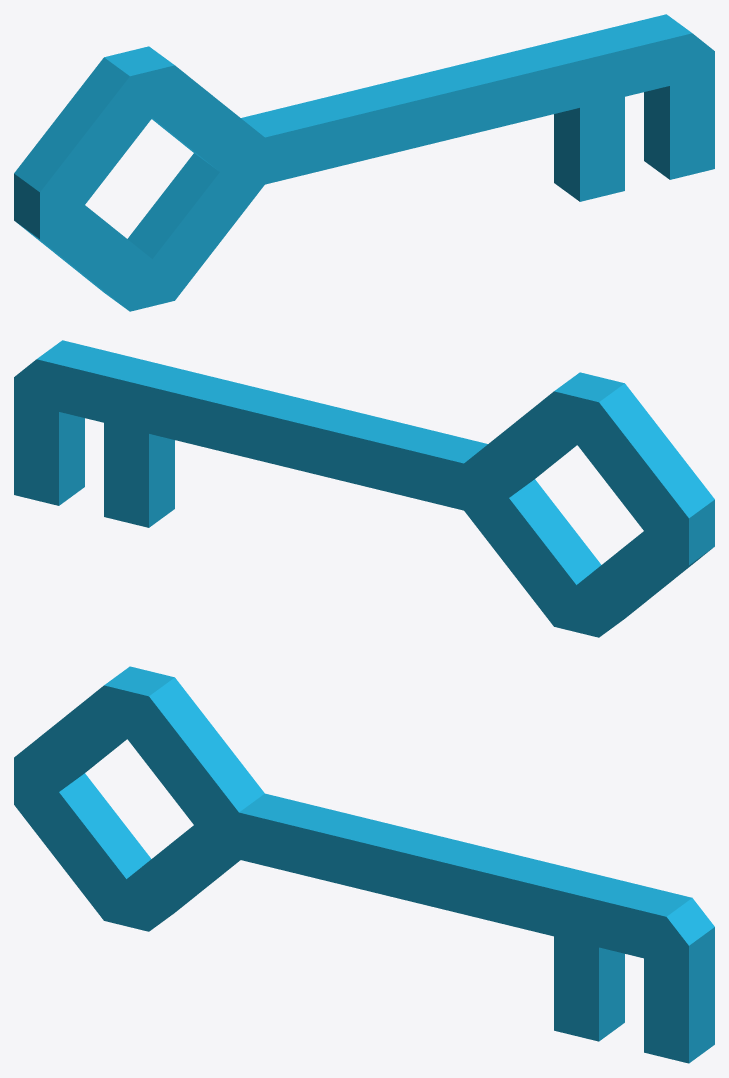
The model's file is Items.fbx_Key_2.fbx.
3 renders of one model, top to bottom at view 1: azimuth 30°, elevation 25°; view 2: azimuth 150°, elevation 25°; view 3: azimuth 330°, elevation 25°, orthographic.
Parts seen in each view (by area): view 1: Key 2; view 2: Key 2; view 3: Key 2.
Boxes of the visible parts, bbox=[...] form: Key 2: bbox=[14, 14, 714, 311]; Key 2: bbox=[14, 340, 714, 637]; Key 2: bbox=[14, 666, 714, 1063].
Size of the model in its own units: 30 by 2 by 10.
